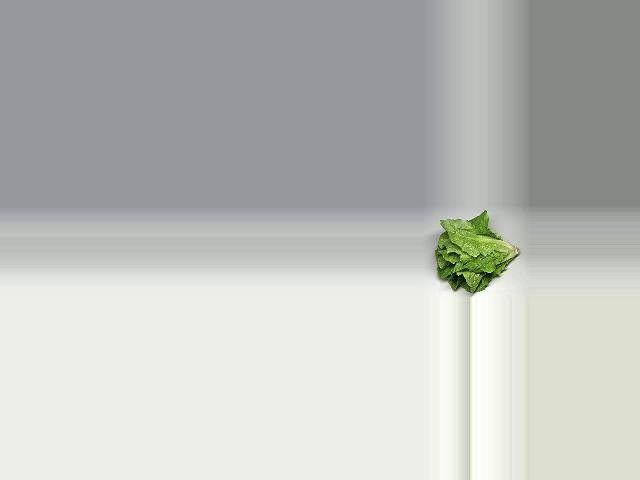lettuce: (430, 218, 523, 292)
